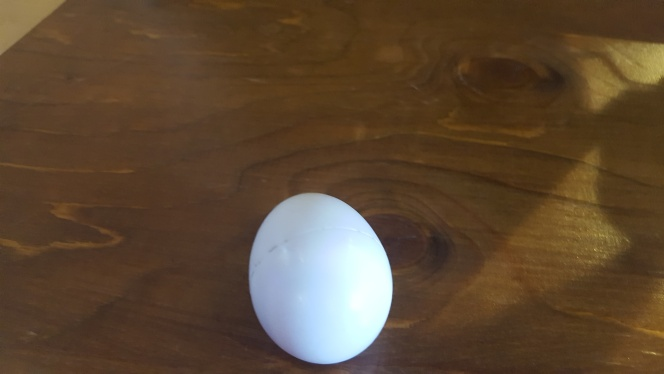egg: (246, 192, 394, 364)
